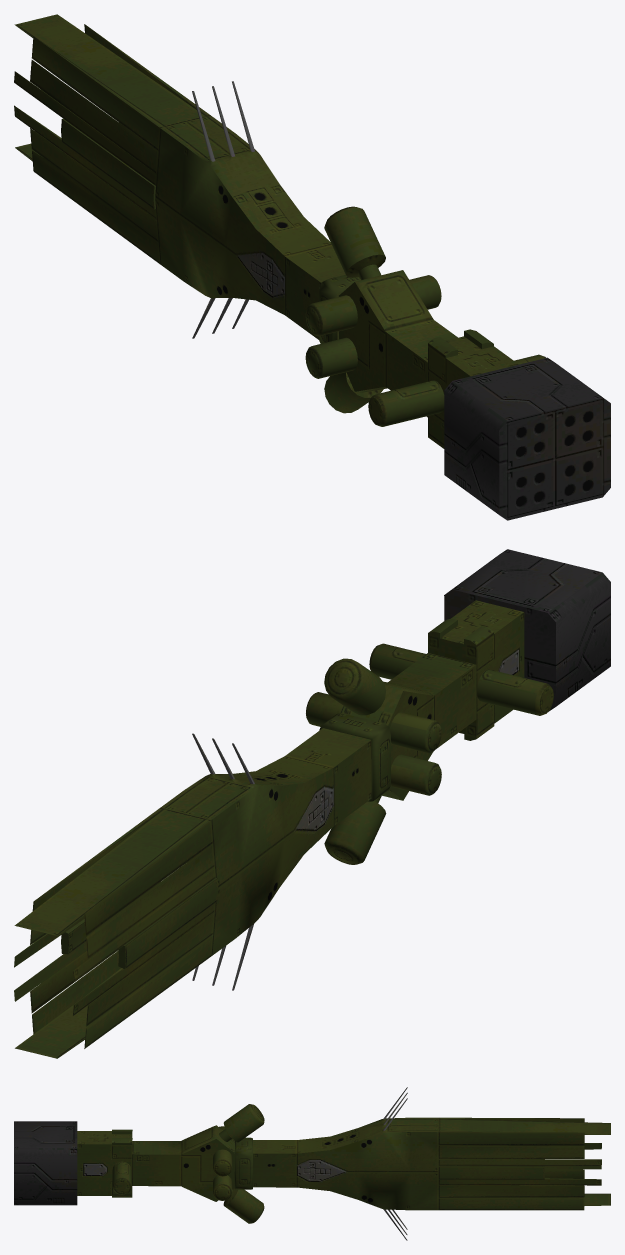
The model's file is fpa_scout.obj.
3 renders of one model, top to bottom at view 1: azimuth 30°, elevation 25°; view 2: azimuth 150°, elevation 25°; view 3: azimuth 270°, elevation 25°, orthographic. The views are drawn at different scales.
Visible parts, largest first — view 1: fpa_scout; view 2: fpa_scout; view 3: fpa_scout.
Boxes of the visible parts, bbox=[...] form: fpa_scout: bbox=[14, 14, 610, 520]; fpa_scout: bbox=[14, 549, 610, 1058]; fpa_scout: bbox=[14, 1087, 610, 1240].
Bounding box in the file's own units: 45.38 × 62.99 × 240.
